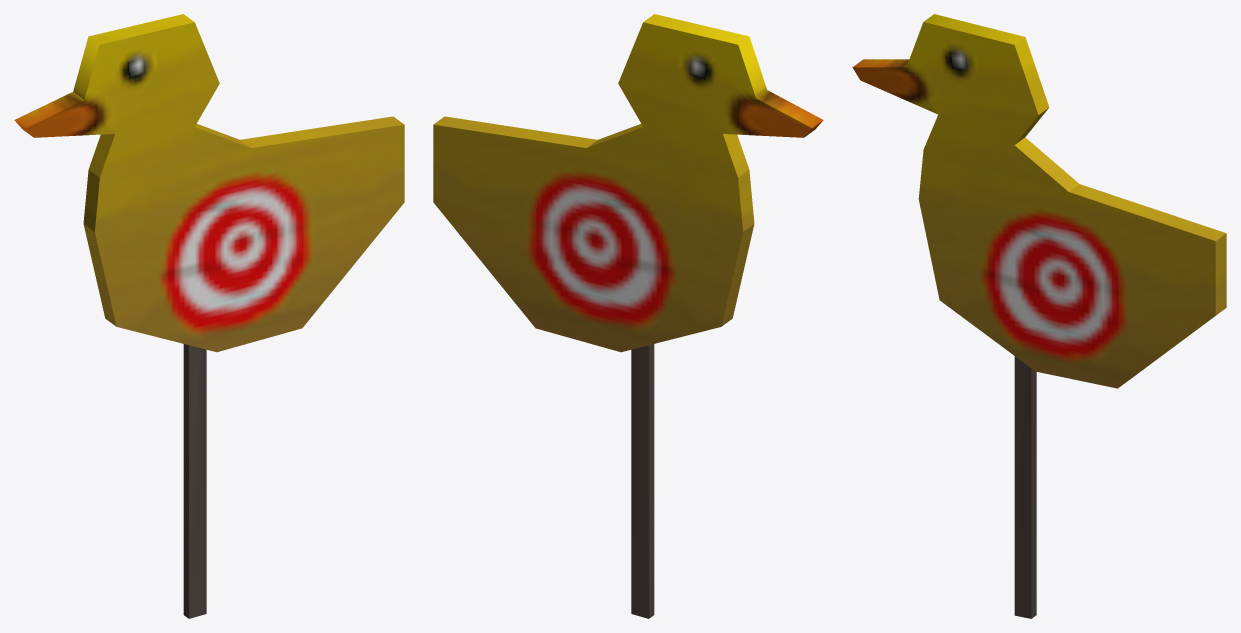
File: duck-target.glb
3 renders of one model, left to right at view 1: azimuth 30°, elevation 25°; view 2: azimuth 150°, elevation 25°; view 3: azimuth 330°, elevation 25°, orthographic. The views are drawn at different scales.
Visible parts, largest first — view 1: duck-target; view 2: duck-target; view 3: duck-target.
Part boxes in pixels (box(x1,y1,x2,y2)): duck-target: box(14, 14, 404, 618); duck-target: box(433, 14, 823, 618); duck-target: box(852, 14, 1226, 618).
Size of the model in its own units: 0.2649 by 0.4 by 0.0152.
Materials: 1 (1 with a texture image).
